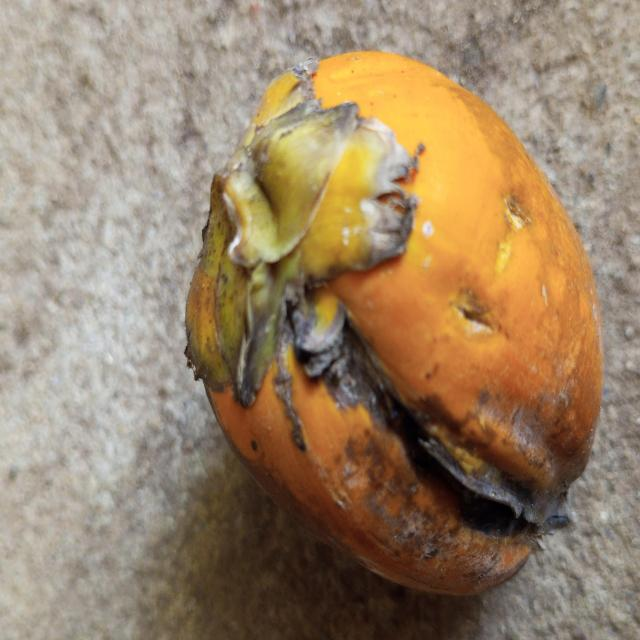damaged: (186, 50, 604, 600)
